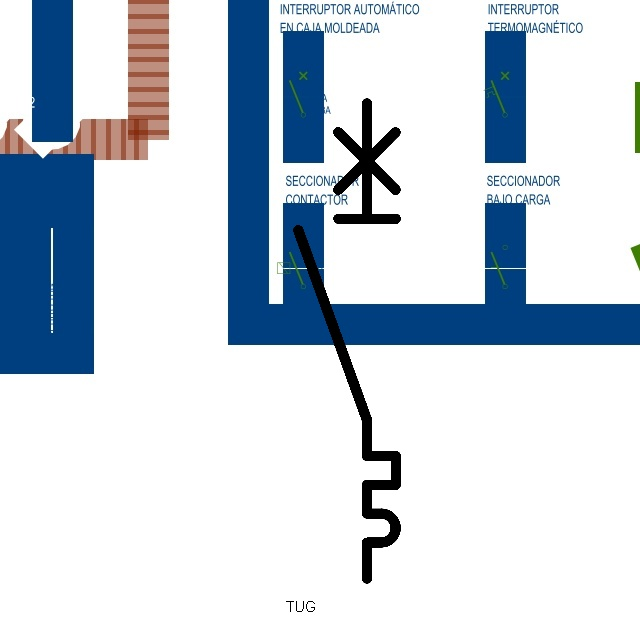interruptor_termomagnetico: (286, 91, 408, 591)
